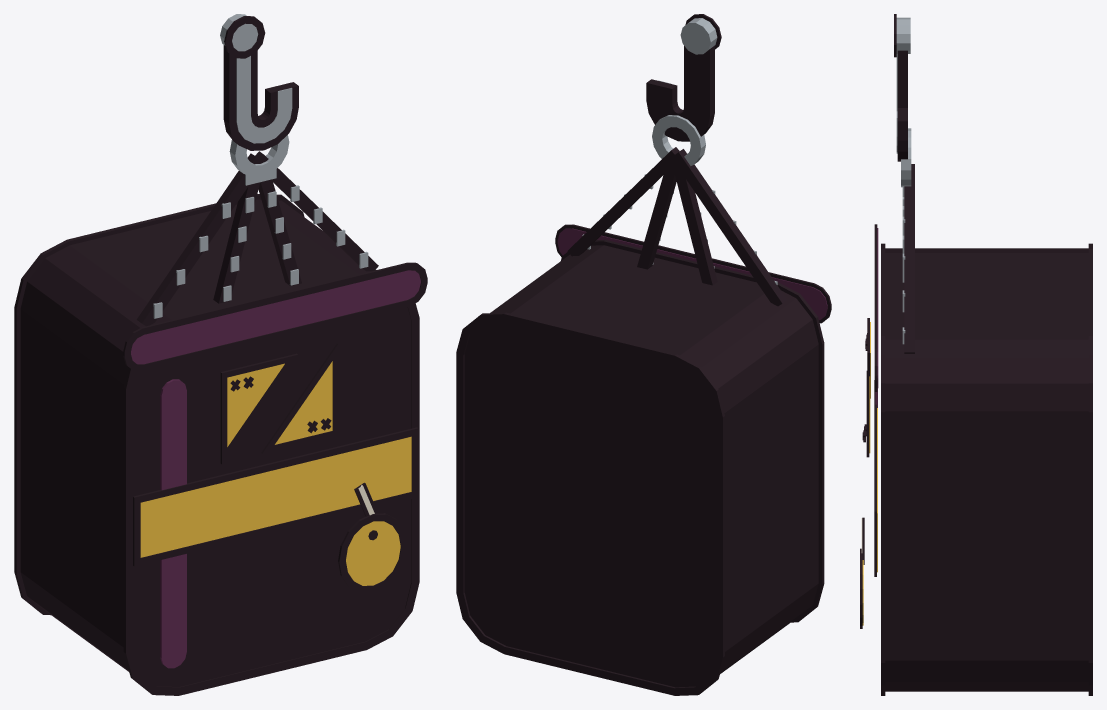
3 renders of one model, left to right at view 1: azimuth 30°, elevation 25°; view 2: azimuth 150°, elevation 25°; view 3: azimuth 270°, elevation 25°, orthographic. The views are drawn at different scales.
Visible parts, largest first — view 1: Bag Holders proposal; view 2: Bag Holders proposal; view 3: Bag Holders proposal.
Part boxes in pixels (x1,y1,x2,y2): Bag Holders proposal: [14, 14, 427, 695]; Bag Holders proposal: [456, 14, 831, 695]; Bag Holders proposal: [860, 14, 1092, 695].
Bounding box in the file's own units: 0.5026 × 1.04 × 0.3528.
